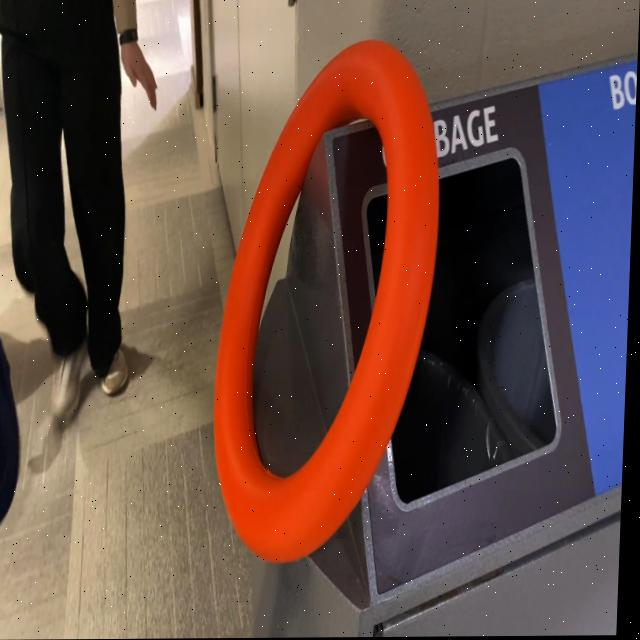note: (211, 38, 446, 566)
